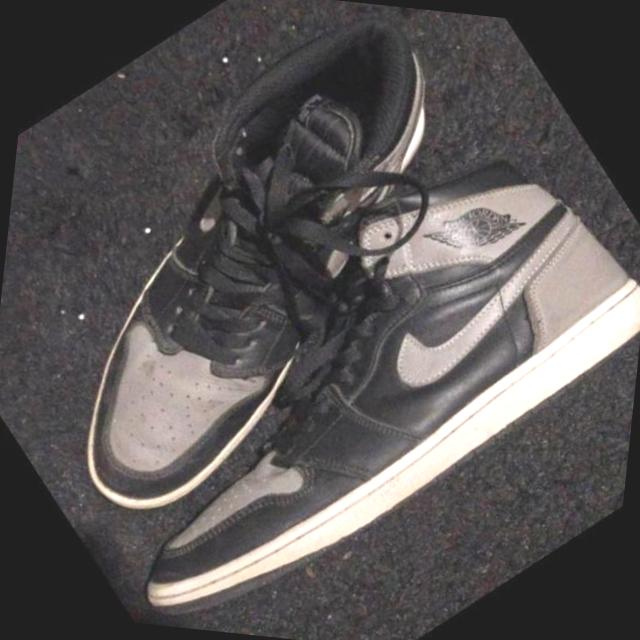nike_fake_jordan: (9, 53, 640, 640), (0, 0, 582, 579)
